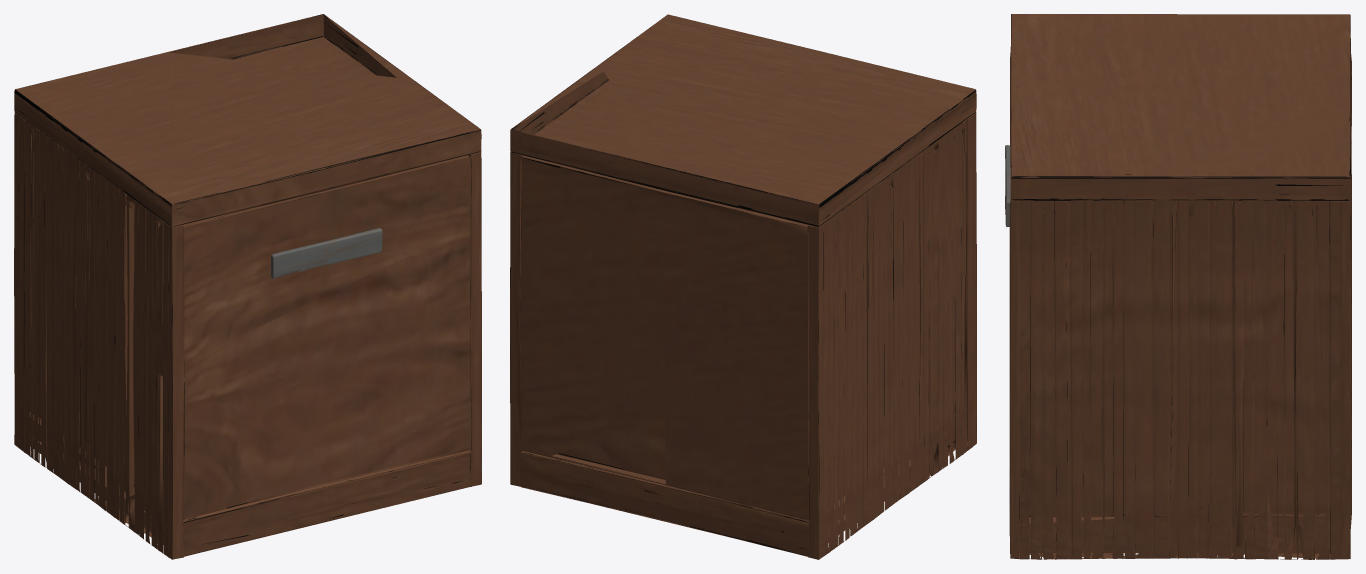
Rendered from desktop.glb.
The picture shows the model from 3 angles, left to right: view 1: azimuth 30°, elevation 25°; view 2: azimuth 150°, elevation 25°; view 3: azimuth 270°, elevation 25°; orthographic projection. The views are drawn at different scales.
Parts seen in each view (by area): view 1: nightstand; view 2: nightstand; view 3: nightstand.
Boxes of the visible parts, <box> form: nightstand: <box>14,14,481,559</box>; nightstand: <box>510,14,976,559</box>; nightstand: <box>1005,14,1351,559</box>.
Bounding box in the file's own units: 0.4998 × 0.5507 × 0.4504.
1 material, 1 textured.
